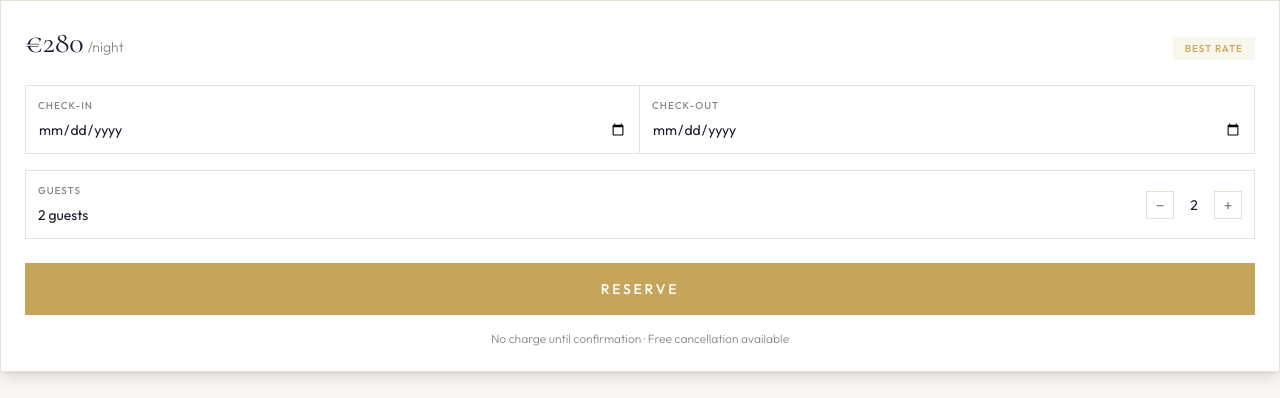
Test: BookingWidget — guest counter › decrements guest count when minus button is clicked
What coordinates should you click on to do the following:
click the button named "Remove guest"
I would click on:
 (1160, 204)
Its box is [1146, 190, 1174, 218].
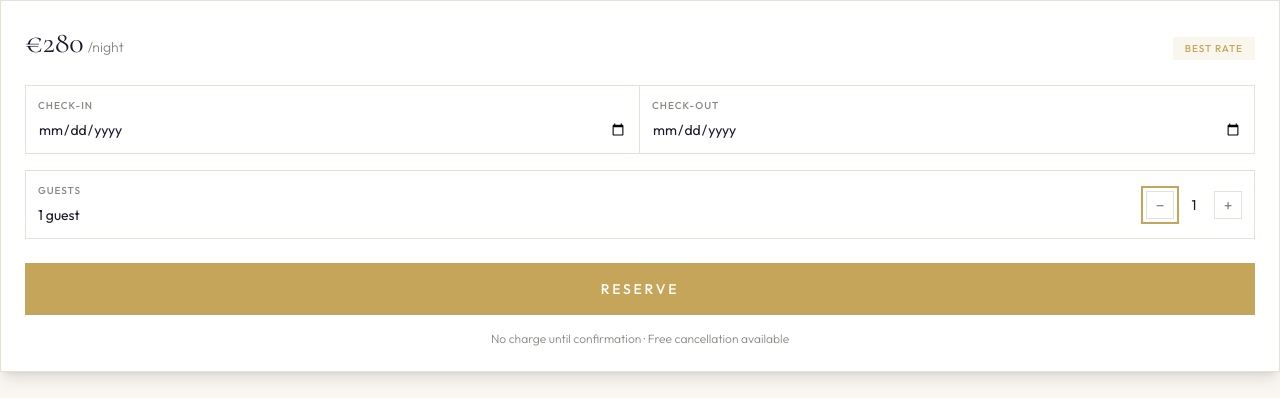
Result: the text "1 guest" is shown at [38, 206, 80, 224]
